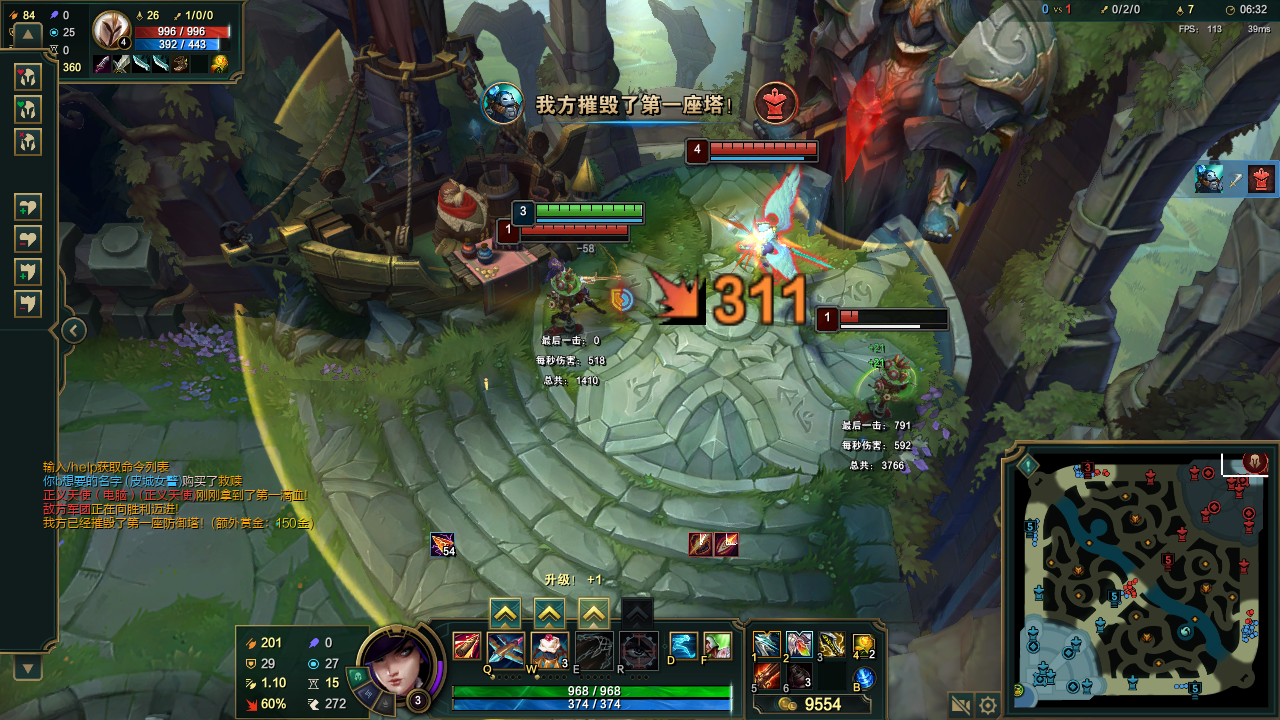DFYX: (843, 310, 946, 324), (710, 142, 820, 155), (517, 224, 636, 235)
